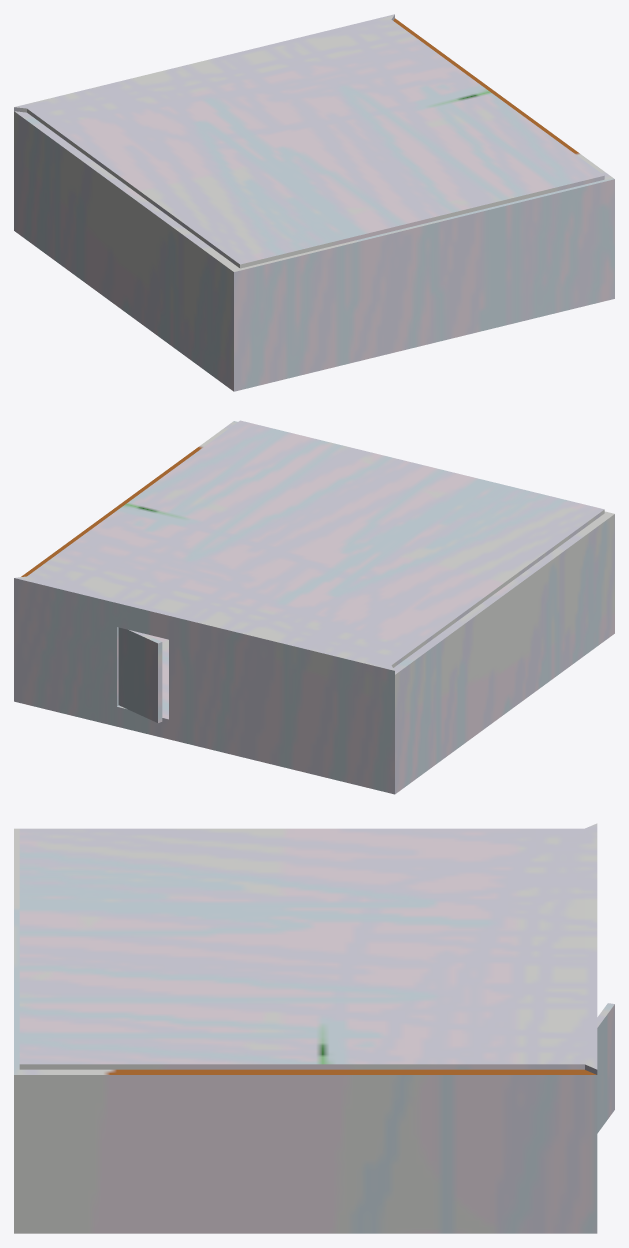
Rendered from apartment.obj.
The picture shows the model from 3 angles, top to bottom: view 1: azimuth 30°, elevation 25°; view 2: azimuth 150°, elevation 25°; view 3: azimuth 270°, elevation 25°; orthographic projection. The views are drawn at different scales.
Parts seen in each view (by area): view 1: Room_Cube; view 2: Room_Cube; view 3: Room_Cube.
Part boxes in pixels (x1,y1,x2,y2): Room_Cube: (14,14,614,391); Room_Cube: (14,420,614,794); Room_Cube: (14,823,614,1233).
Size of the model in its own units: 10 by 3.1 by 10.3.
Materials: 1 (1 with a texture image).
